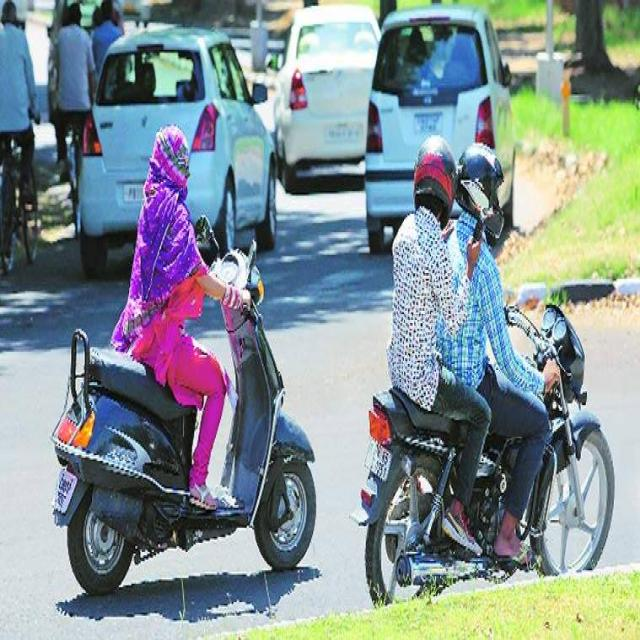not_triplets: (56, 126, 320, 576), (368, 113, 614, 594)
with-helmet: (462, 137, 508, 244), (412, 127, 459, 230)
